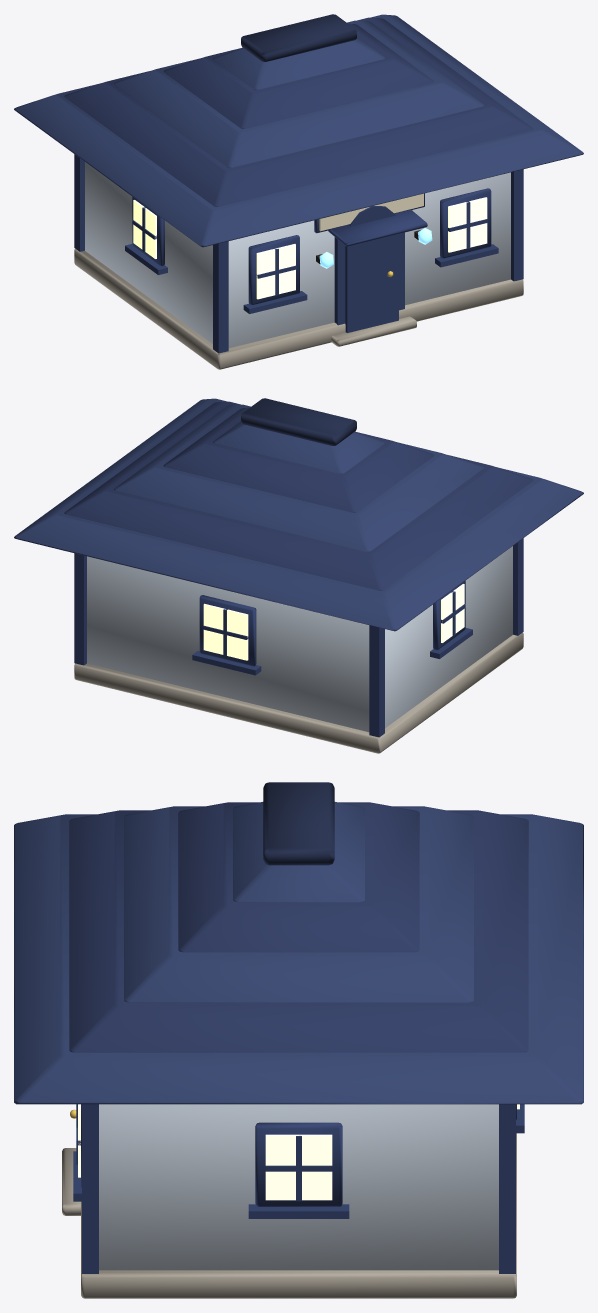
The model's file is v_police.glb.
The picture shows the model from 3 angles, top to bottom: view 1: azimuth 30°, elevation 25°; view 2: azimuth 150°, elevation 25°; view 3: azimuth 270°, elevation 25°; orthographic projection. The views are drawn at different scales.
Parts seen in each view (by area): view 1: Police; view 2: Police; view 3: Police.
Part boxes in pixels (left/top/right/bottom): Police: left=14, top=14, right=583, bottom=369; Police: left=14, top=398, right=583, bottom=753; Police: left=14, top=782, right=583, bottom=1298.
Bounding box in the file's own units: 7.01 × 4.34 × 6.01.
